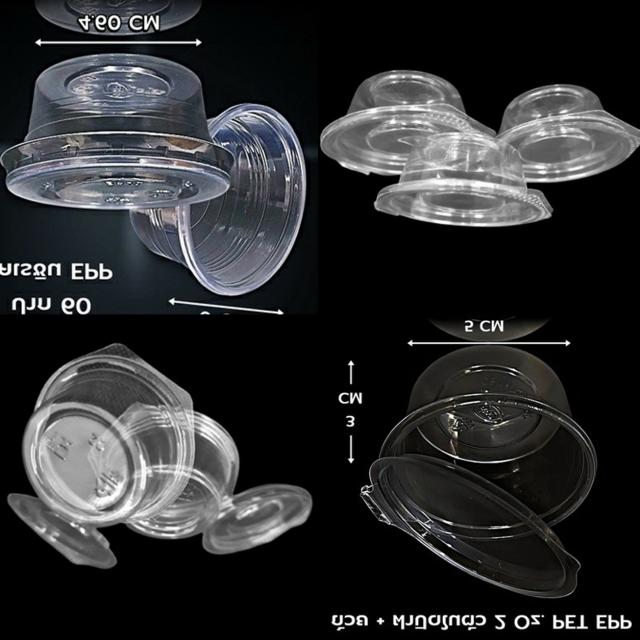plastik: (361, 348, 596, 598), (0, 53, 232, 210), (130, 104, 306, 295), (23, 344, 194, 526), (128, 413, 313, 554), (321, 71, 495, 175), (374, 133, 551, 226), (498, 85, 640, 182)
